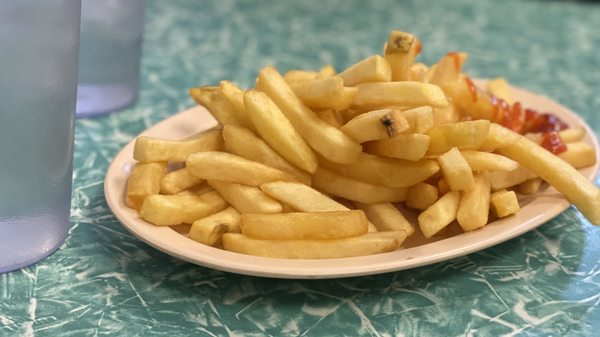pizza: (0, 1, 81, 276), (75, 1, 146, 119)
